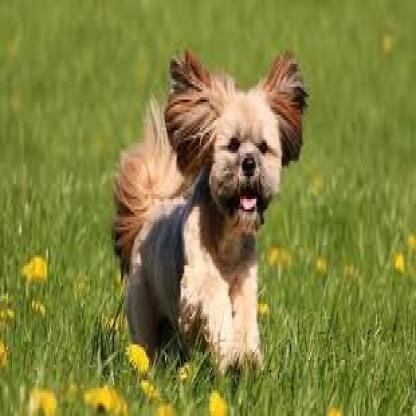Lhasa Apso: (105, 31, 309, 371)
